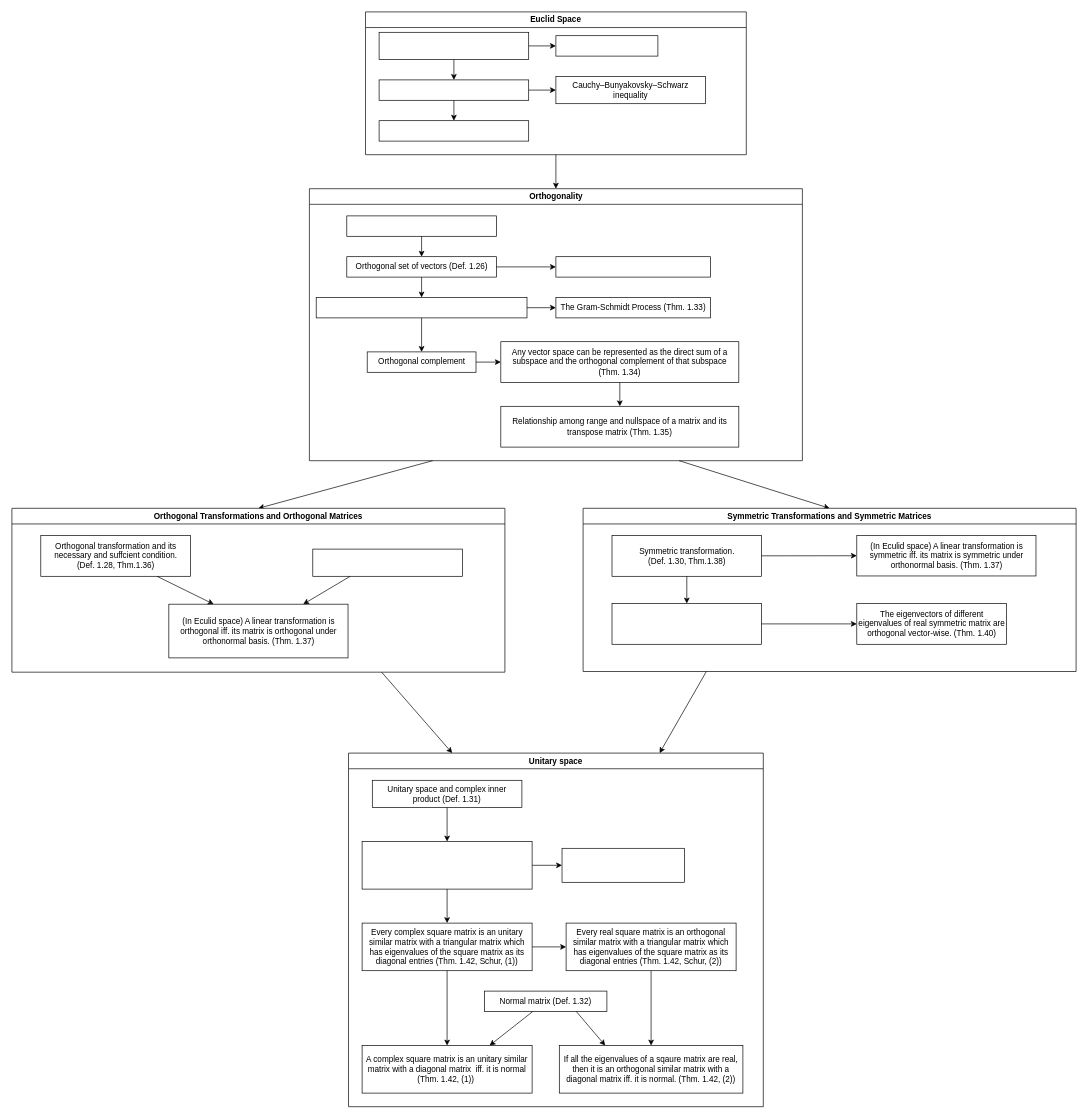
The diagram is 1088 pixels wide and 1119 high, and some of its shapes have lost their labels. Here are the shapes that lost their labels. From the top down, the centre of each, then its label:
the point at 453,46: Euclid space and inner product (Def. 1.22)
the point at 606,45: Gram matrix
the point at 453,89: Norm in Euclid space (Def. 1.23)
the point at 453,130: Angle between vectors (Def. 1.24)
the point at 421,225: Orthogonality (Def. 1.25)
the point at 633,266: They are linear independent (Thm. 1.32)
the point at 421,307: Orthogonal basis and orthonormal basis （Def. 1.27）
the point at 387,562: Orthogonal matrix (Def. 1.29)
the point at 686,623: The eigenvalues of real symmetric matrix are all real. (Thm. 1.39)
the point at 446,865: Similary conclusions as in Eculid space, except for some details
the point at 622,865: Unitary matrix and Hermite matrix
